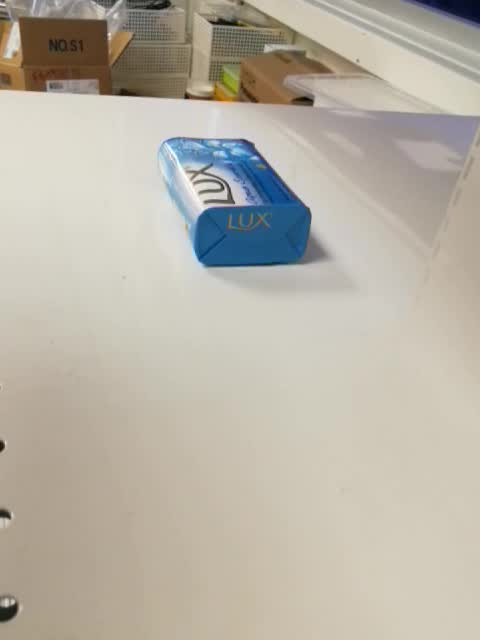soap: (156, 137, 313, 268)
